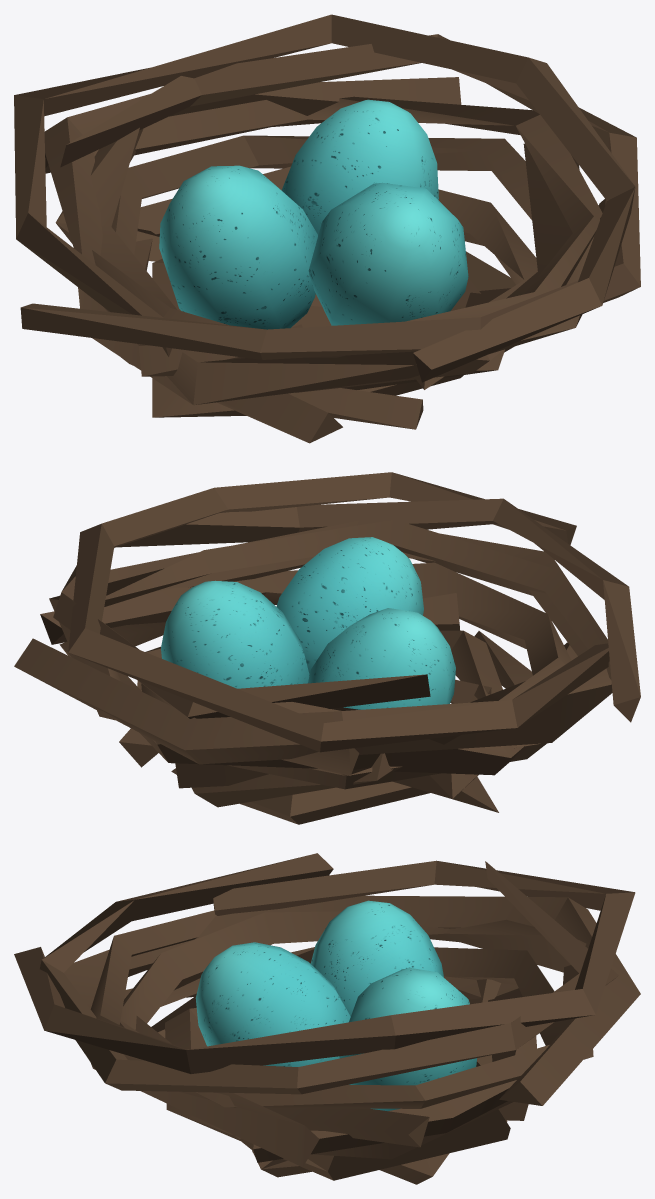
Rendered from BirdsNest_WithEggs01.fbx.
3 renders of one model, top to bottom at view 1: azimuth 30°, elevation 25°; view 2: azimuth 150°, elevation 25°; view 3: azimuth 270°, elevation 25°, orthographic. The views are drawn at different scales.
Parts seen in each view (by area): view 1: BirdsNest01, WholeEgg03, WholeEgg01, WholeEgg02; view 2: BirdsNest01, WholeEgg02, WholeEgg01, WholeEgg03; view 3: BirdsNest01, WholeEgg01, WholeEgg03, WholeEgg02.
Part boxes in pixels (left/top/right/bottom): BirdsNest01: left=14, top=14, right=640, bottom=443; WholeEgg03: left=159, top=165, right=317, bottom=329; WholeEgg01: left=308, top=182, right=468, bottom=325; WholeEgg02: left=282, top=99, right=438, bottom=235; BirdsNest01: left=14, top=472, right=640, bottom=824; WholeEgg02: left=161, top=580, right=309, bottom=688; WholeEgg01: left=276, top=537, right=423, bottom=674; WholeEgg03: left=308, top=608, right=455, bottom=709; BirdsNest01: left=14, top=853, right=640, bottom=1184; WholeEgg01: left=195, top=942, right=350, bottom=1066; WholeEgg03: left=310, top=900, right=443, bottom=1015; WholeEgg02: left=339, top=968, right=476, bottom=1111.
Size of the model in its own units: 7.55 by 3.13 by 7.58.
